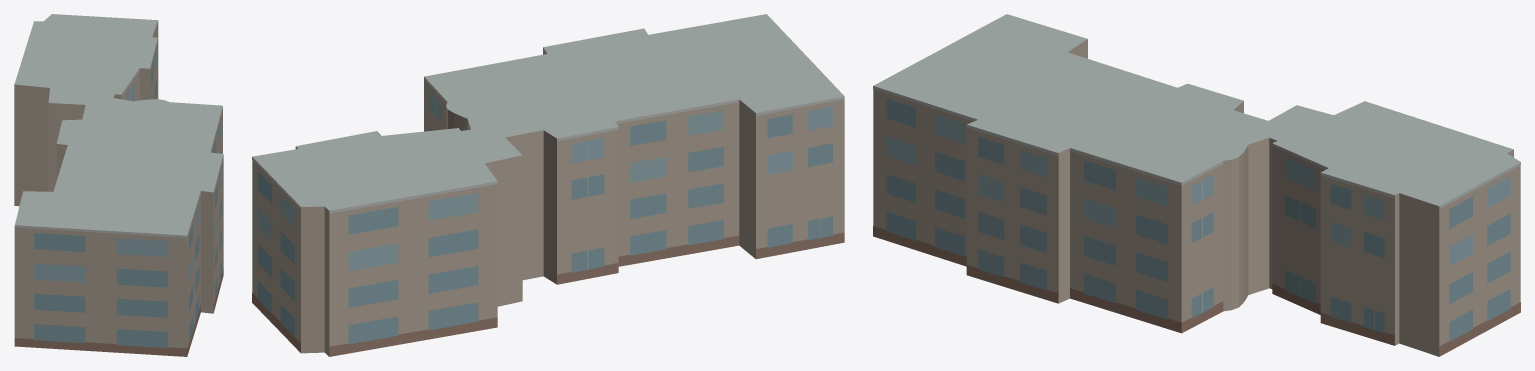
The model's file is survey-upis-32990791.glb.
3 views of the same model, side by side, from view 1: azimuth 30°, elevation 25°; view 2: azimuth 150°, elevation 25°; view 3: azimuth 270°, elevation 25° (orthographic). The views are drawn at different scales.
Parts seen in each view (by area): view 1: survey-upis-32990791.tmp; view 2: survey-upis-32990791.tmp; view 3: survey-upis-32990791.tmp.
Part boxes in pixels (x1,y1,x2,y2): survey-upis-32990791.tmp: (14, 14, 223, 356); survey-upis-32990791.tmp: (252, 14, 844, 356); survey-upis-32990791.tmp: (873, 14, 1520, 356).
Bounding box in the file's own units: 33.43 × 12.2 × 47.56.
